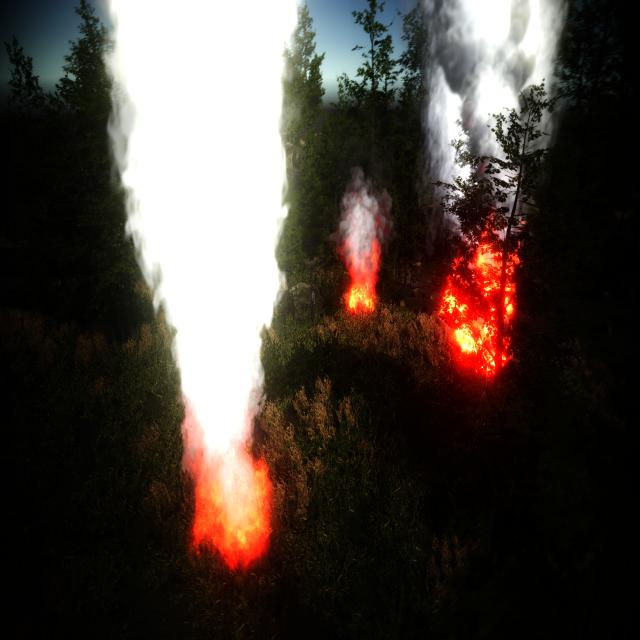Human: (306, 282, 317, 329)
